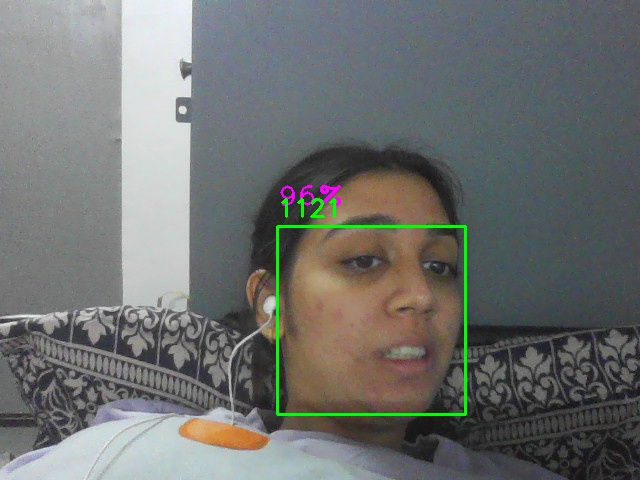real: (277, 226, 466, 415)
